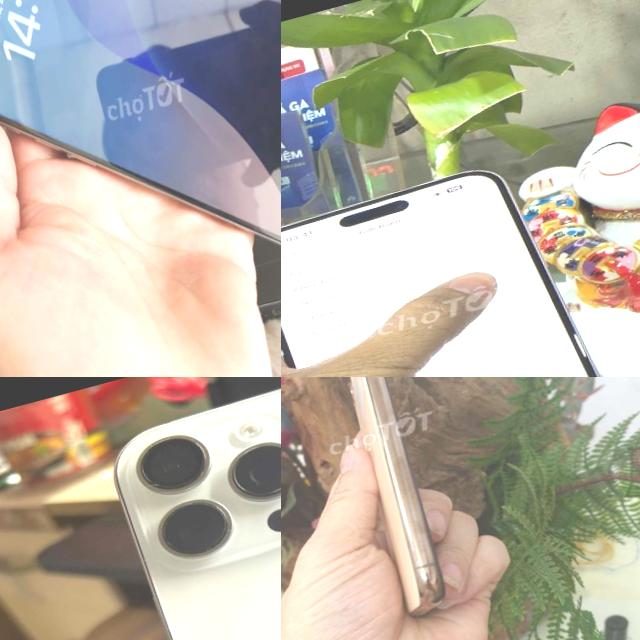gen_11: (310, 377, 467, 640)
gen_15: (0, 0, 281, 372), (281, 130, 640, 377)
gen_16: (114, 389, 281, 640)
physical_damage: (56, 136, 105, 188)
scratch: (243, 575, 281, 617), (133, 468, 179, 500)
